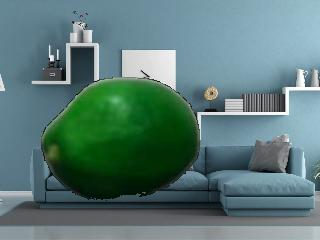lime: (38, 72, 205, 204)
